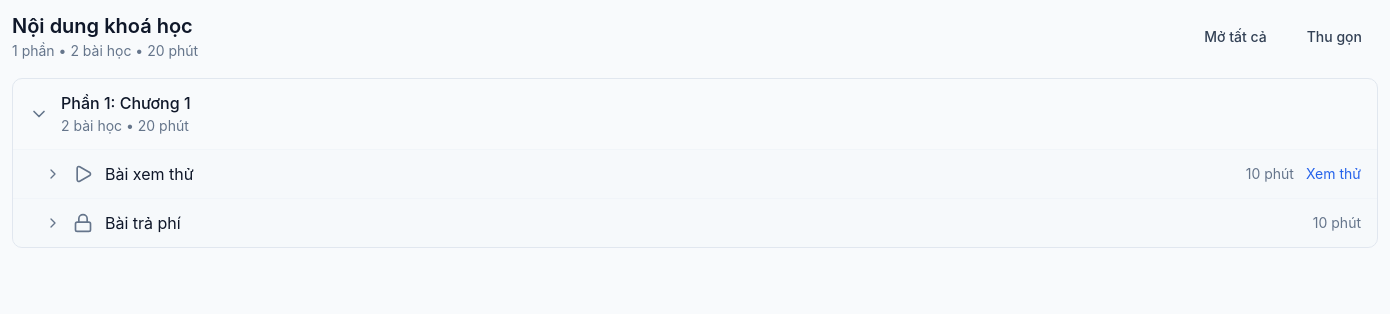
CourseSyllabus — khách xem thử › mở bài preview: gọi endpoint công khai theo slug và hiện nội dung
The width and height of the screenshot is (1390, 314).
Click the text "Bài xem thử": (149, 174) [105, 164, 194, 184]
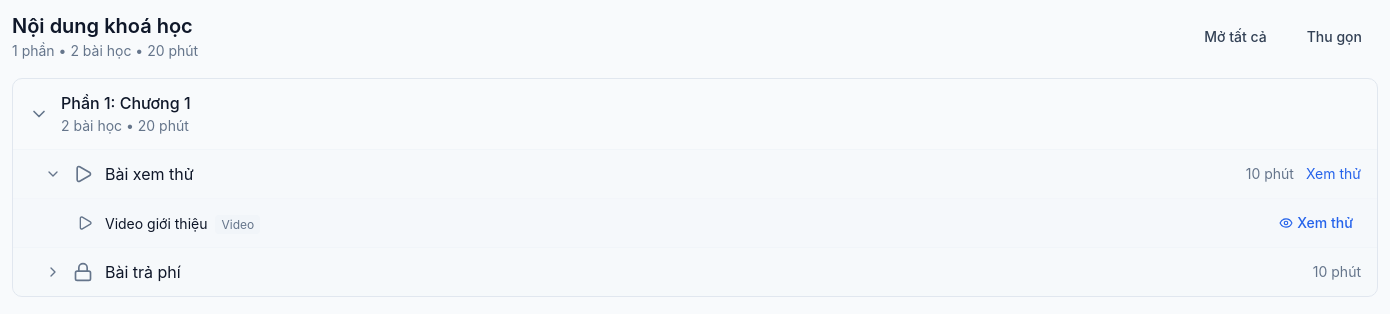
Expected: the text "Video giới thiệu" is shown, [105, 215, 208, 232]
